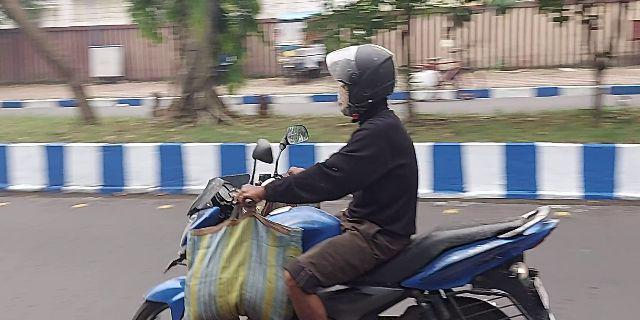Motorbike: (119, 40, 560, 316)
